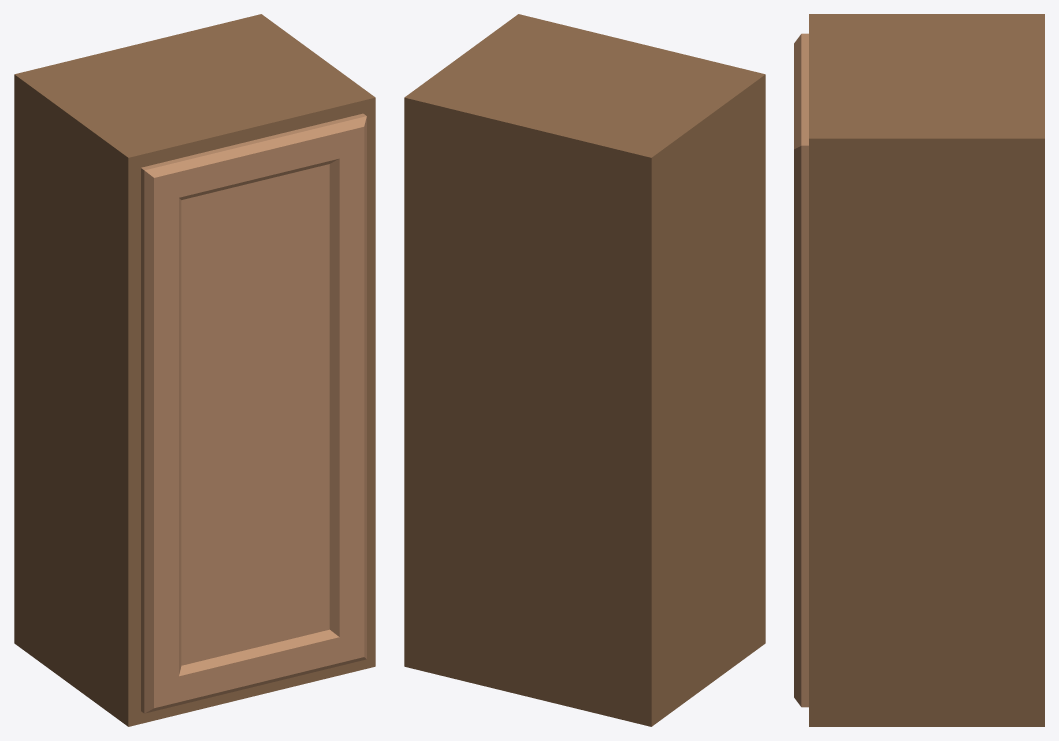
The model's file is Kitchen_Cabinet_Wall_Half.obj.
3 views of the same model, side by side, from view 1: azimuth 30°, elevation 25°; view 2: azimuth 150°, elevation 25°; view 3: azimuth 270°, elevation 25° (orthographic). The views are drawn at different scales.
Parts seen in each view (by area): view 1: object1, object2; view 2: object2; view 3: object2, object1.
Boxes of the visible parts, <box> form: object1: <box>141,113,366,713</box>; object2: <box>14,14,375,726</box>; object2: <box>404,14,765,726</box>; object2: <box>809,14,1044,726</box>; object1: <box>794,33,808,707</box>.
Size of the model in its own units: 0.5 by 1.1 by 0.425.
